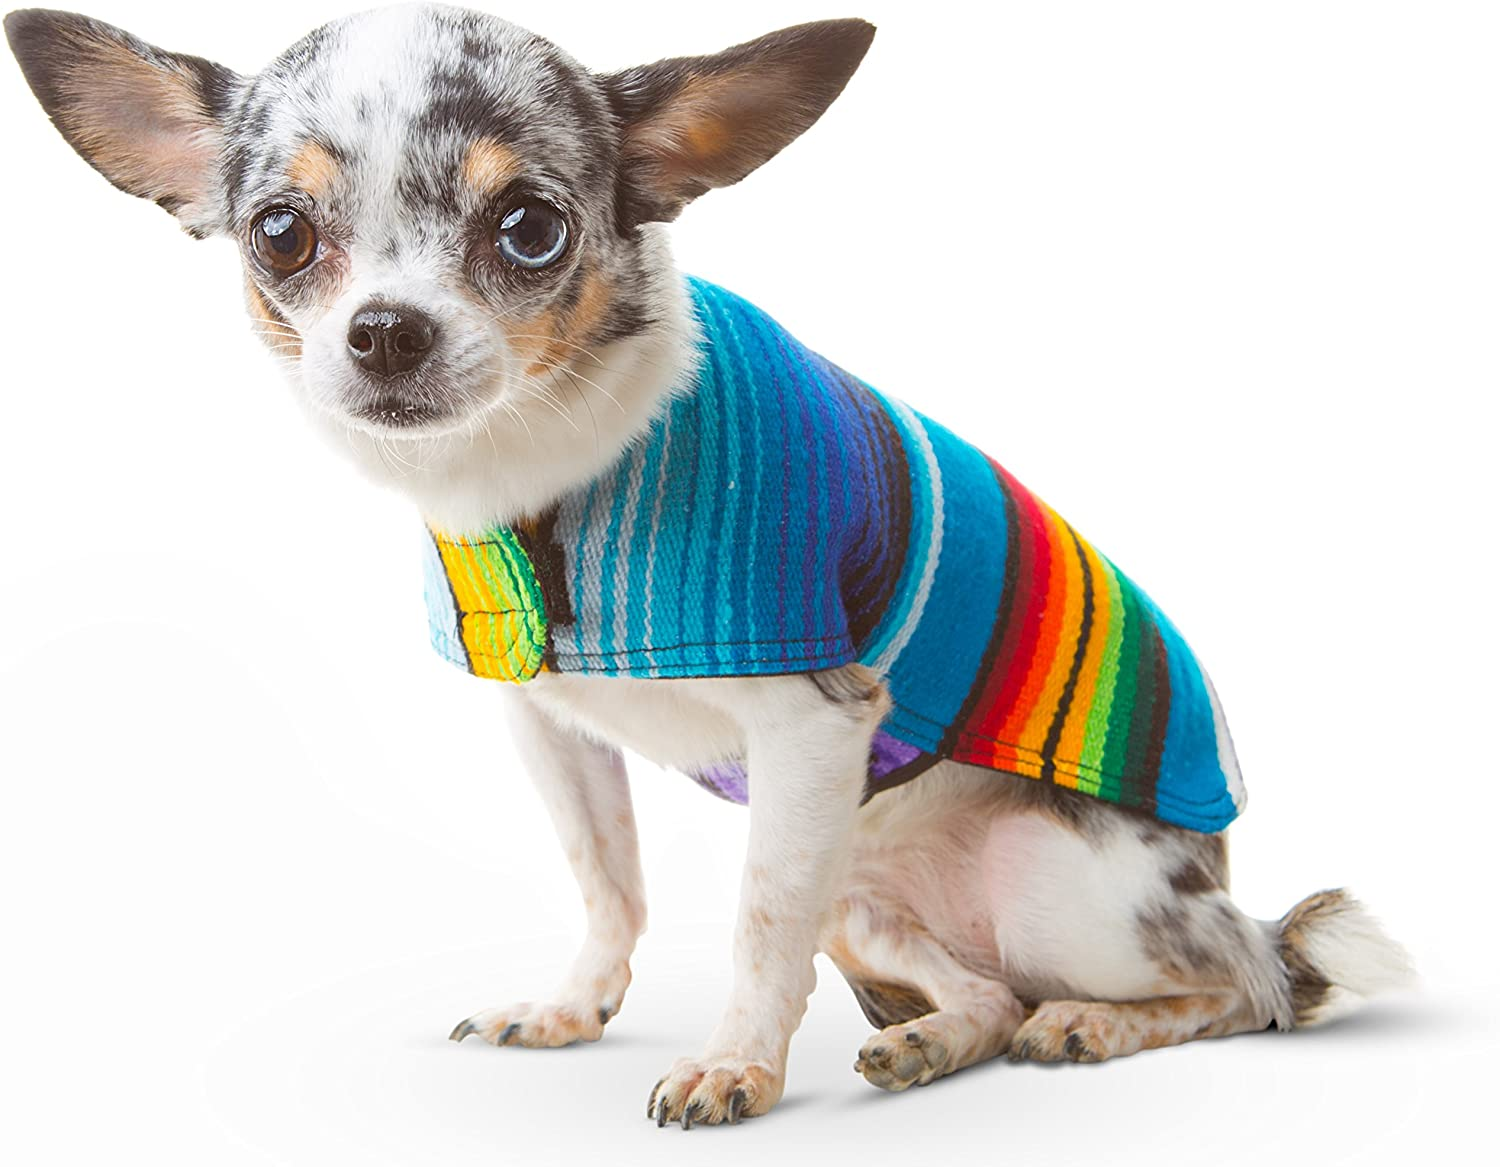Dog: (10, 9, 1429, 1132)
